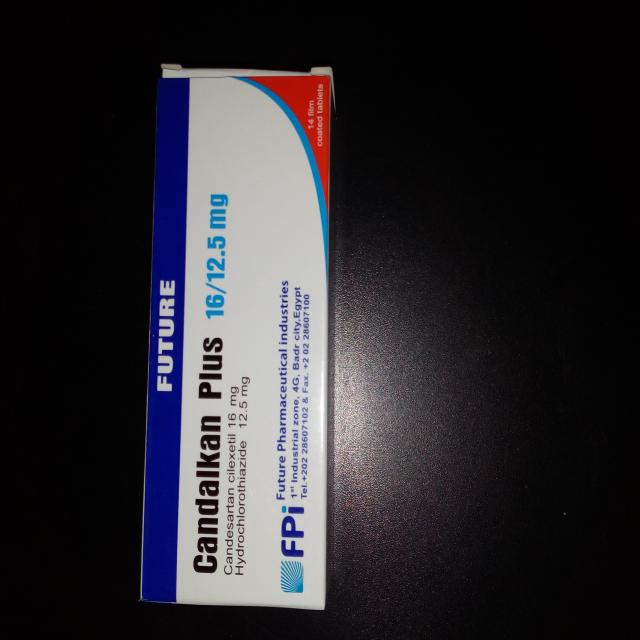Medicine: (138, 55, 335, 616)
